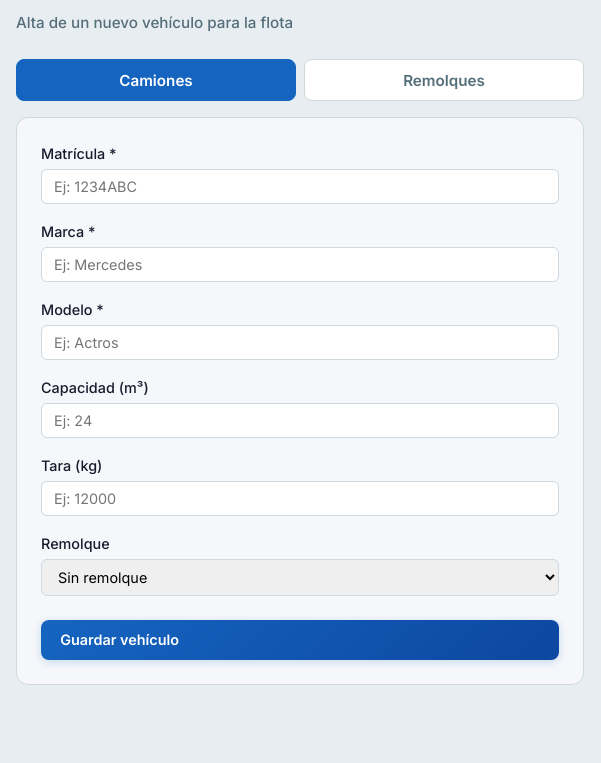
Scenario: CamionFormPage › shows error message on API failure
Type "1234ABC" into the field with placeholder "Ej: 1234ABC" at (300, 187), box [41, 169, 559, 204]
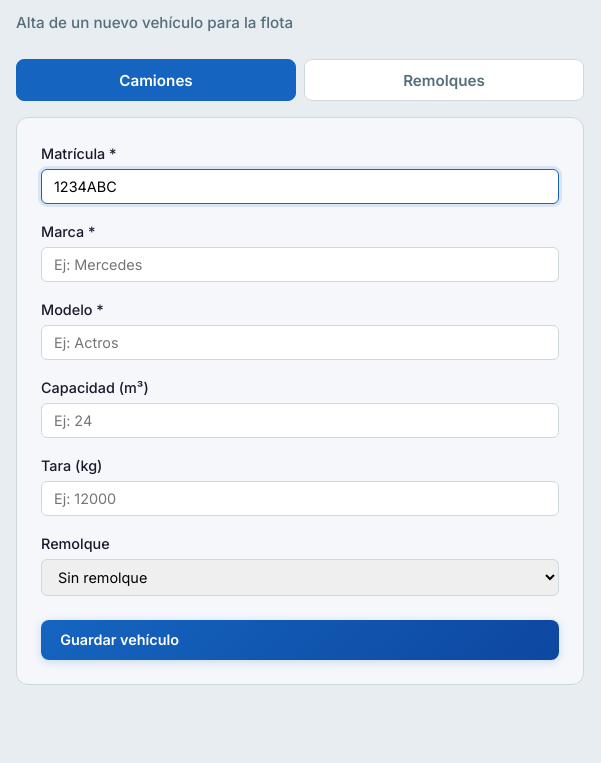
Type "Mercedes" into the field with placeholder "Ej: Mercedes" at (300, 265), box [41, 247, 559, 282]
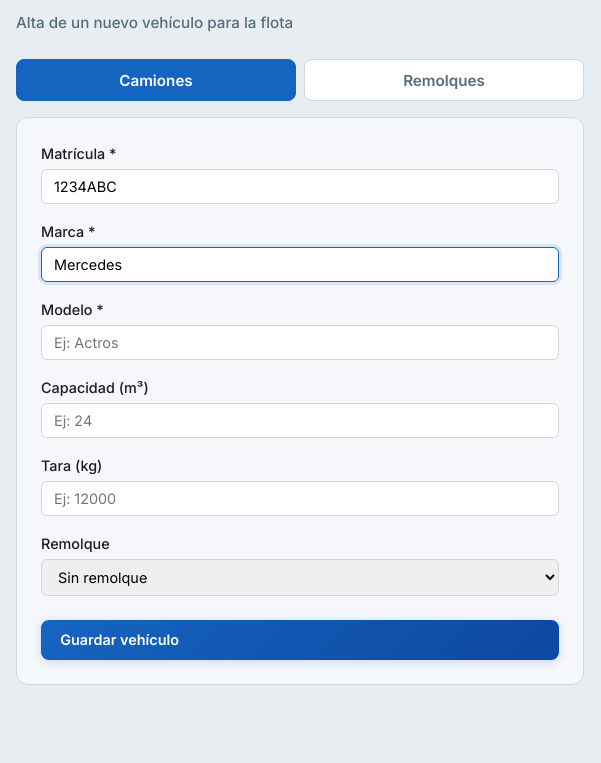
Type "Actros" into the field with placeholder "Ej: Actros" at (300, 343), box [41, 325, 559, 360]
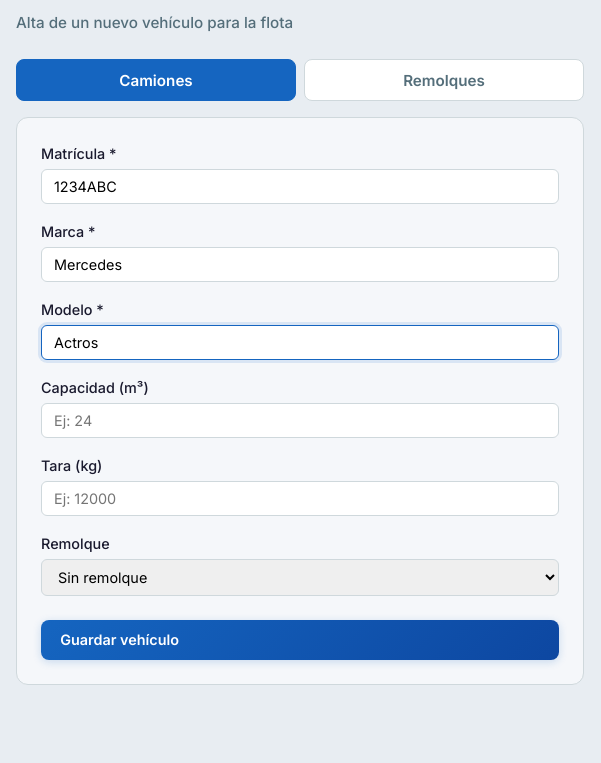
Click the button "Guardar vehículo" at (120, 639), box [41, 620, 559, 660]
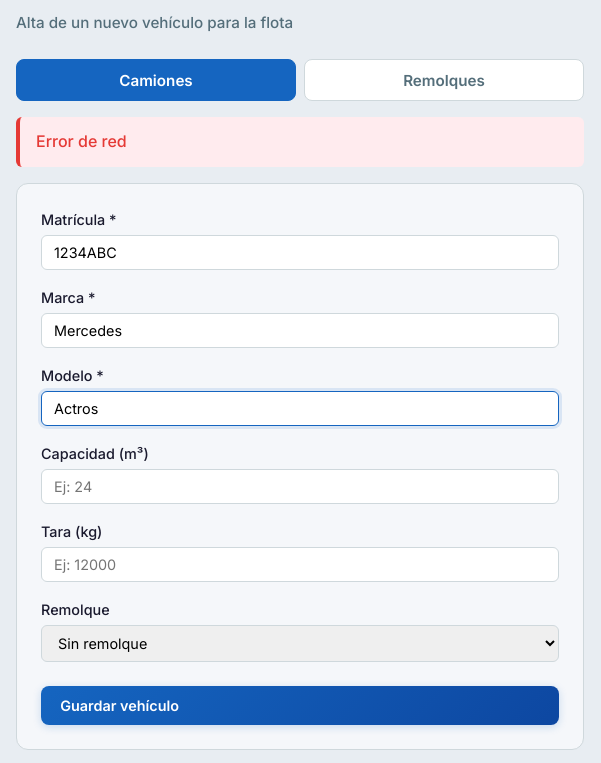
Expected: the text "Error de red" is shown, [16, 117, 584, 167]
